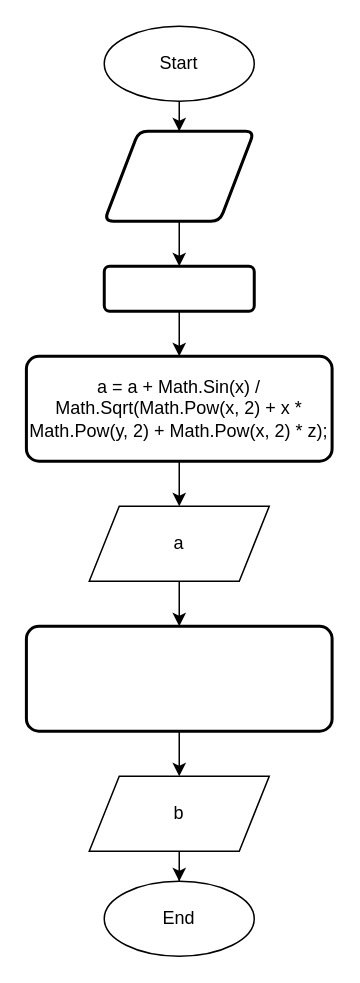
Some shapes in this 360 by 983 pixel diagram are drawn without their labels. The centre of each missing label's shape, as x and y in pixels:
a = 1; b = 0;: pixel 178 288
b = b + Math.Log(Math.Pow(a, 3) + Math.Pow(x, 2)) / (x + a / (y + z / a));: pixel 178 678
𝑥, 𝑦, 𝑧 ∈ ℝ: pixel 178 175
